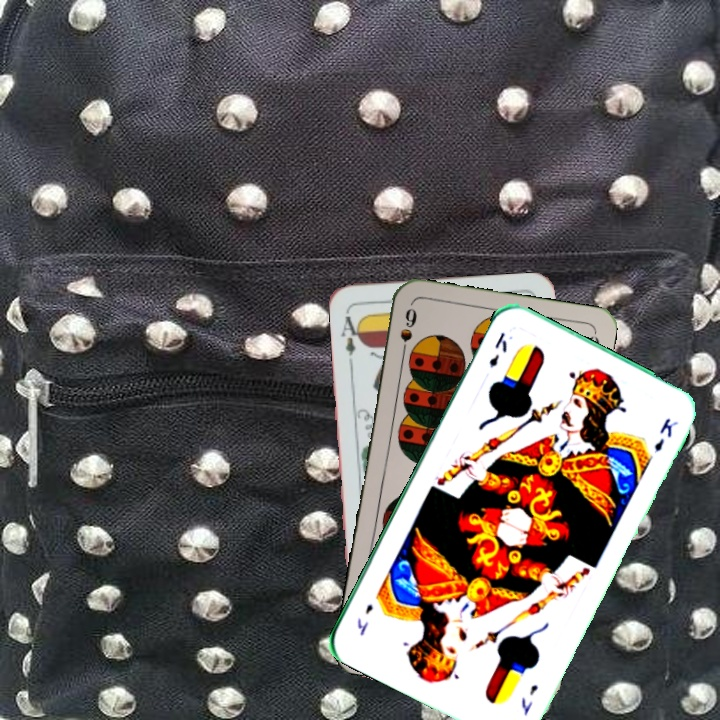EA: (337, 306, 365, 366)
EK: (485, 329, 510, 371), (517, 680, 541, 718)
S9: (396, 303, 420, 361)
